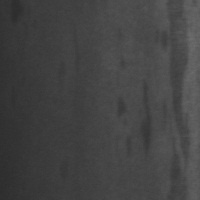inclusion: (159, 2, 193, 198), (132, 76, 157, 165), (66, 23, 85, 79), (110, 97, 131, 128)
